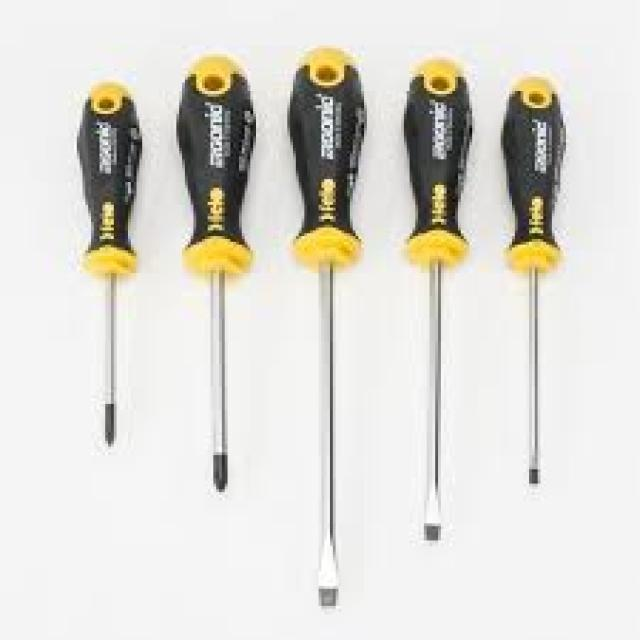screw driver: (282, 29, 372, 620), (172, 51, 273, 508), (394, 42, 474, 553), (45, 67, 148, 459), (492, 71, 578, 495)
